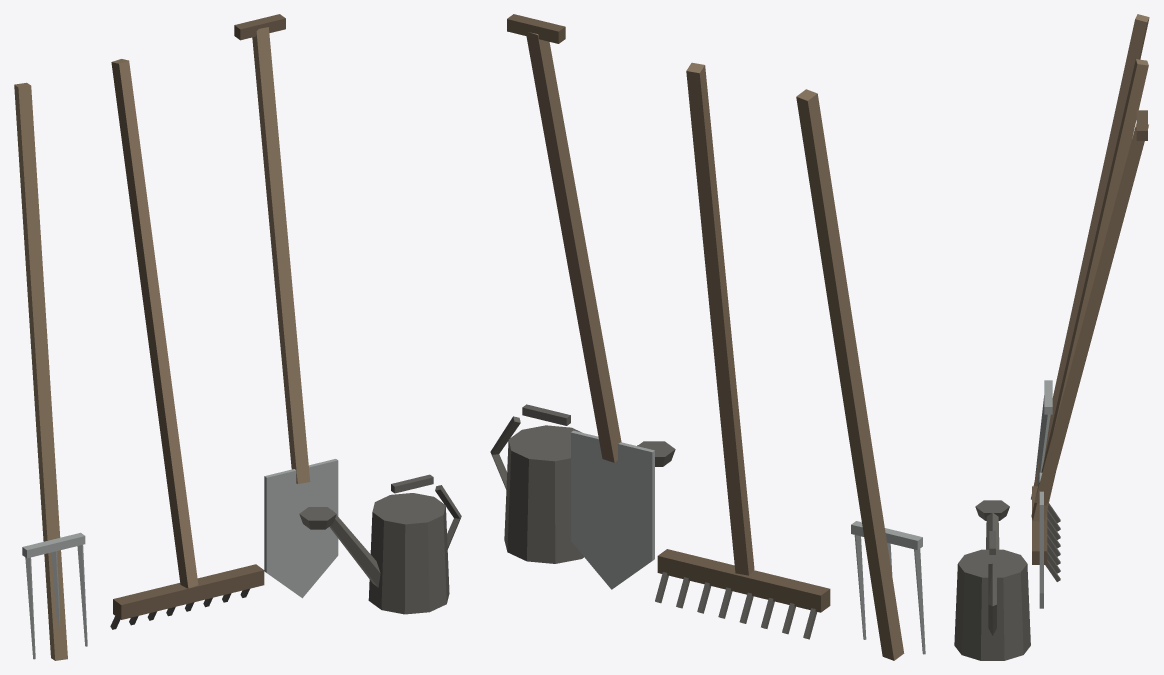
File: garden_tools.glb
The picture shows the model from 3 angles, left to right: view 1: azimuth 30°, elevation 25°; view 2: azimuth 150°, elevation 25°; view 3: azimuth 270°, elevation 25°; orthographic projection. The views are drawn at different scales.
Parts seen in each view (by area): view 1: Garden_Tools; view 2: Garden_Tools; view 3: Garden_Tools.
Part boxes in pixels (x1,y1,x2,y2): Garden_Tools: (14,14,461,660); Garden_Tools: (490,14,925,660); Garden_Tools: (954,14,1149,660).
Size of the model in its own units: 1.25 by 1.57 by 0.5608.
